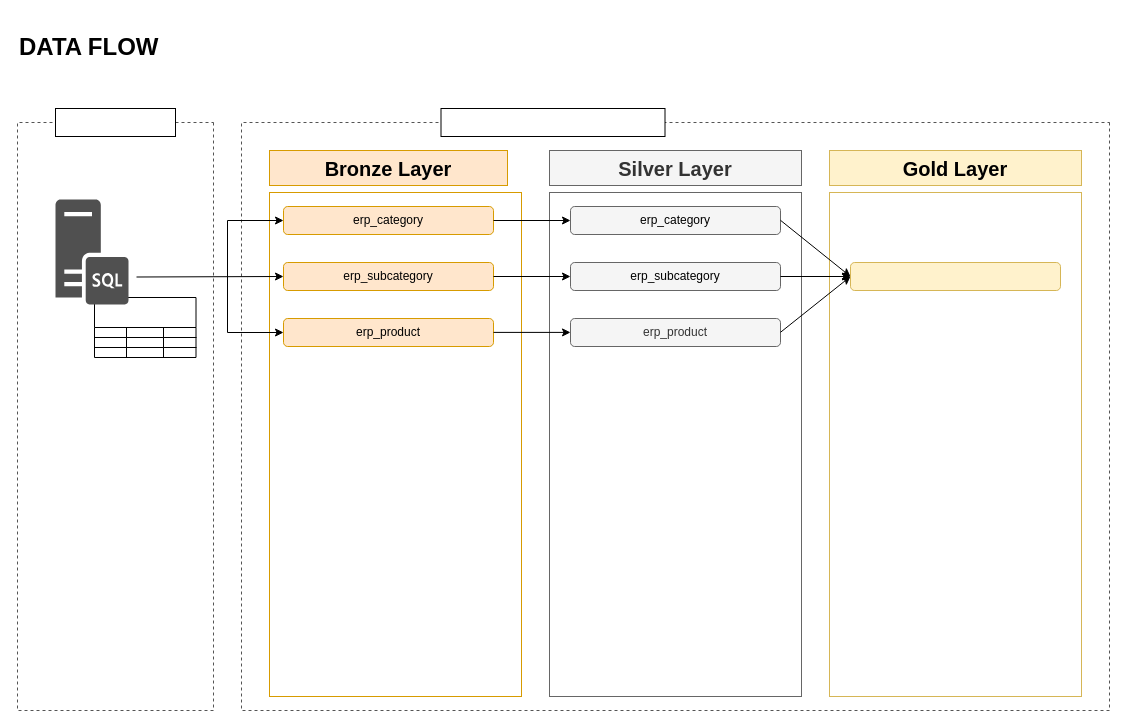
This 1127x728 diagram has some shape labels left out. The centre of each missing label's shape, as x and y in pixels:
"Data Warehouse" goes at pixel 552 122.
"dim_products" goes at pixel 955 276.
"ERP" goes at pixel 145 327.
"Sources" goes at pixel 115 122.
